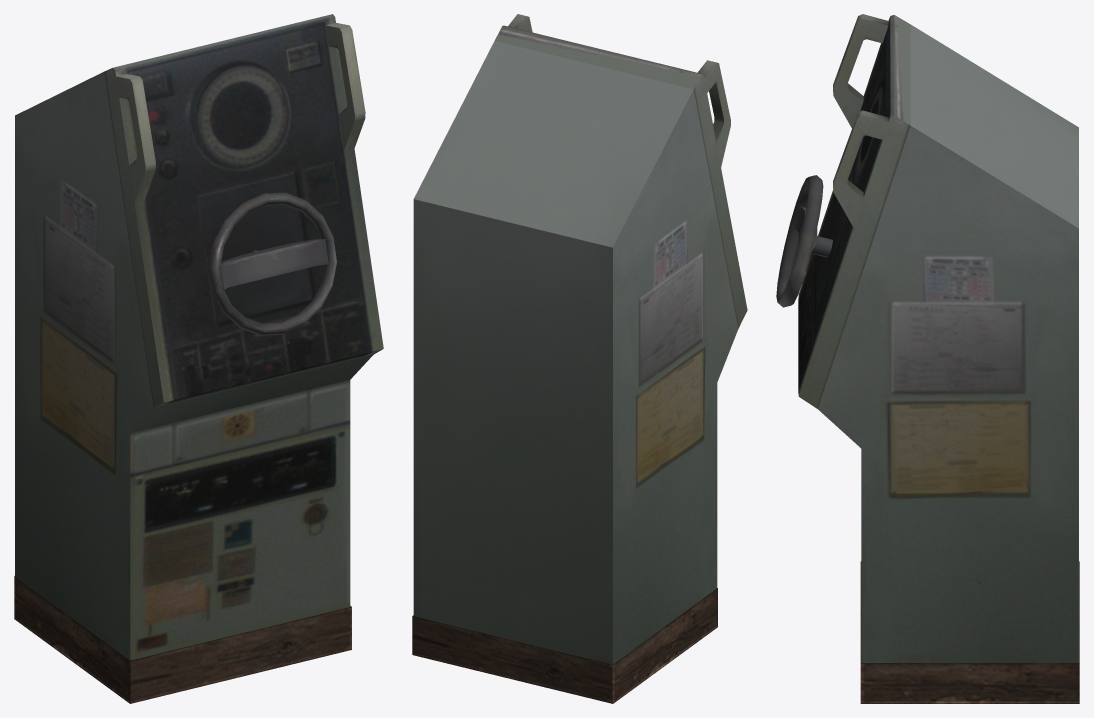
The model's file is Machine02.FBX.
3 views of the same model, side by side, from view 1: azimuth 30°, elevation 25°; view 2: azimuth 150°, elevation 25°; view 3: azimuth 270°, elevation 25° (orthographic). The views are drawn at different scales.
Visible parts, largest first — view 1: Machine02; view 2: Machine02; view 3: Machine02.
Part boxes in pixels (x1,y1,x2,y2): Machine02: [14, 14, 383, 703]; Machine02: [412, 14, 747, 703]; Machine02: [776, 14, 1079, 703].
Bounding box in the file's own units: 0.5541 × 1.49 × 0.6964.
